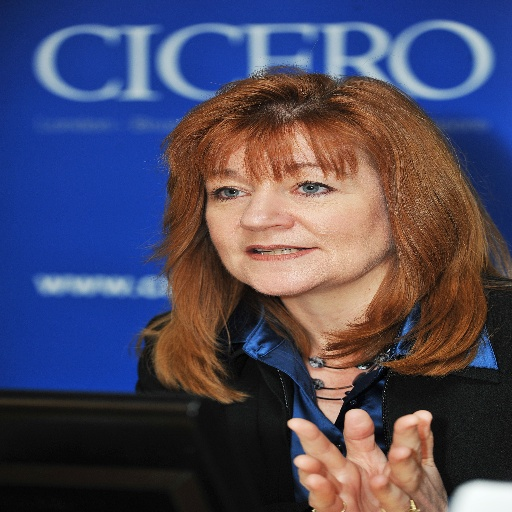hand: (368, 408, 450, 511)
